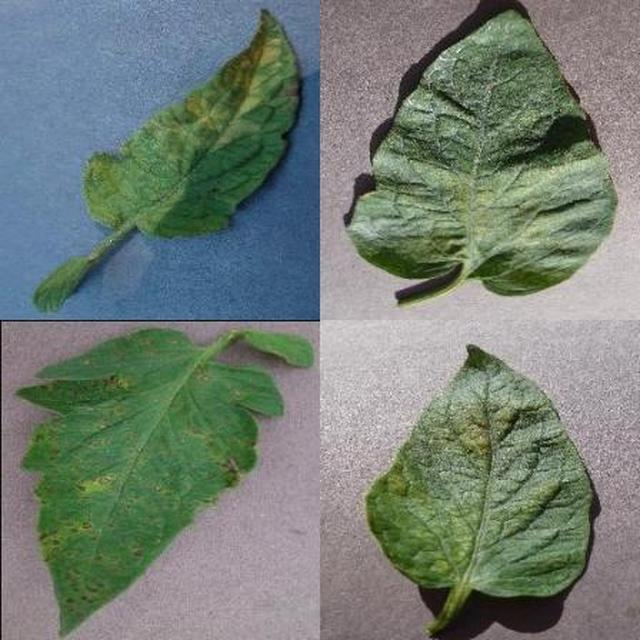Leaf Mold: (213, 176, 640, 640)
